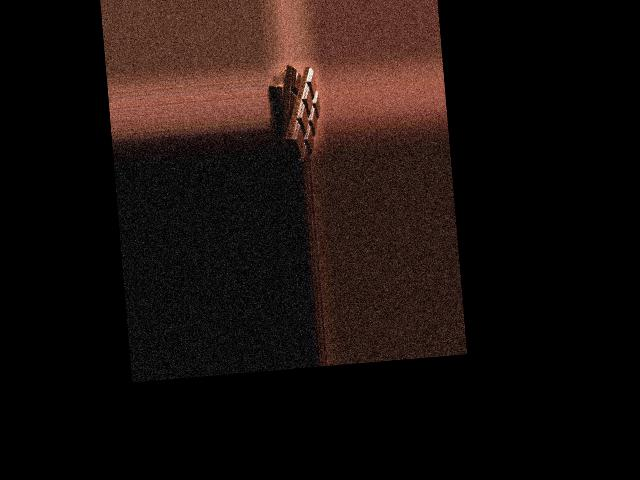chocolate: (273, 63, 324, 160)
